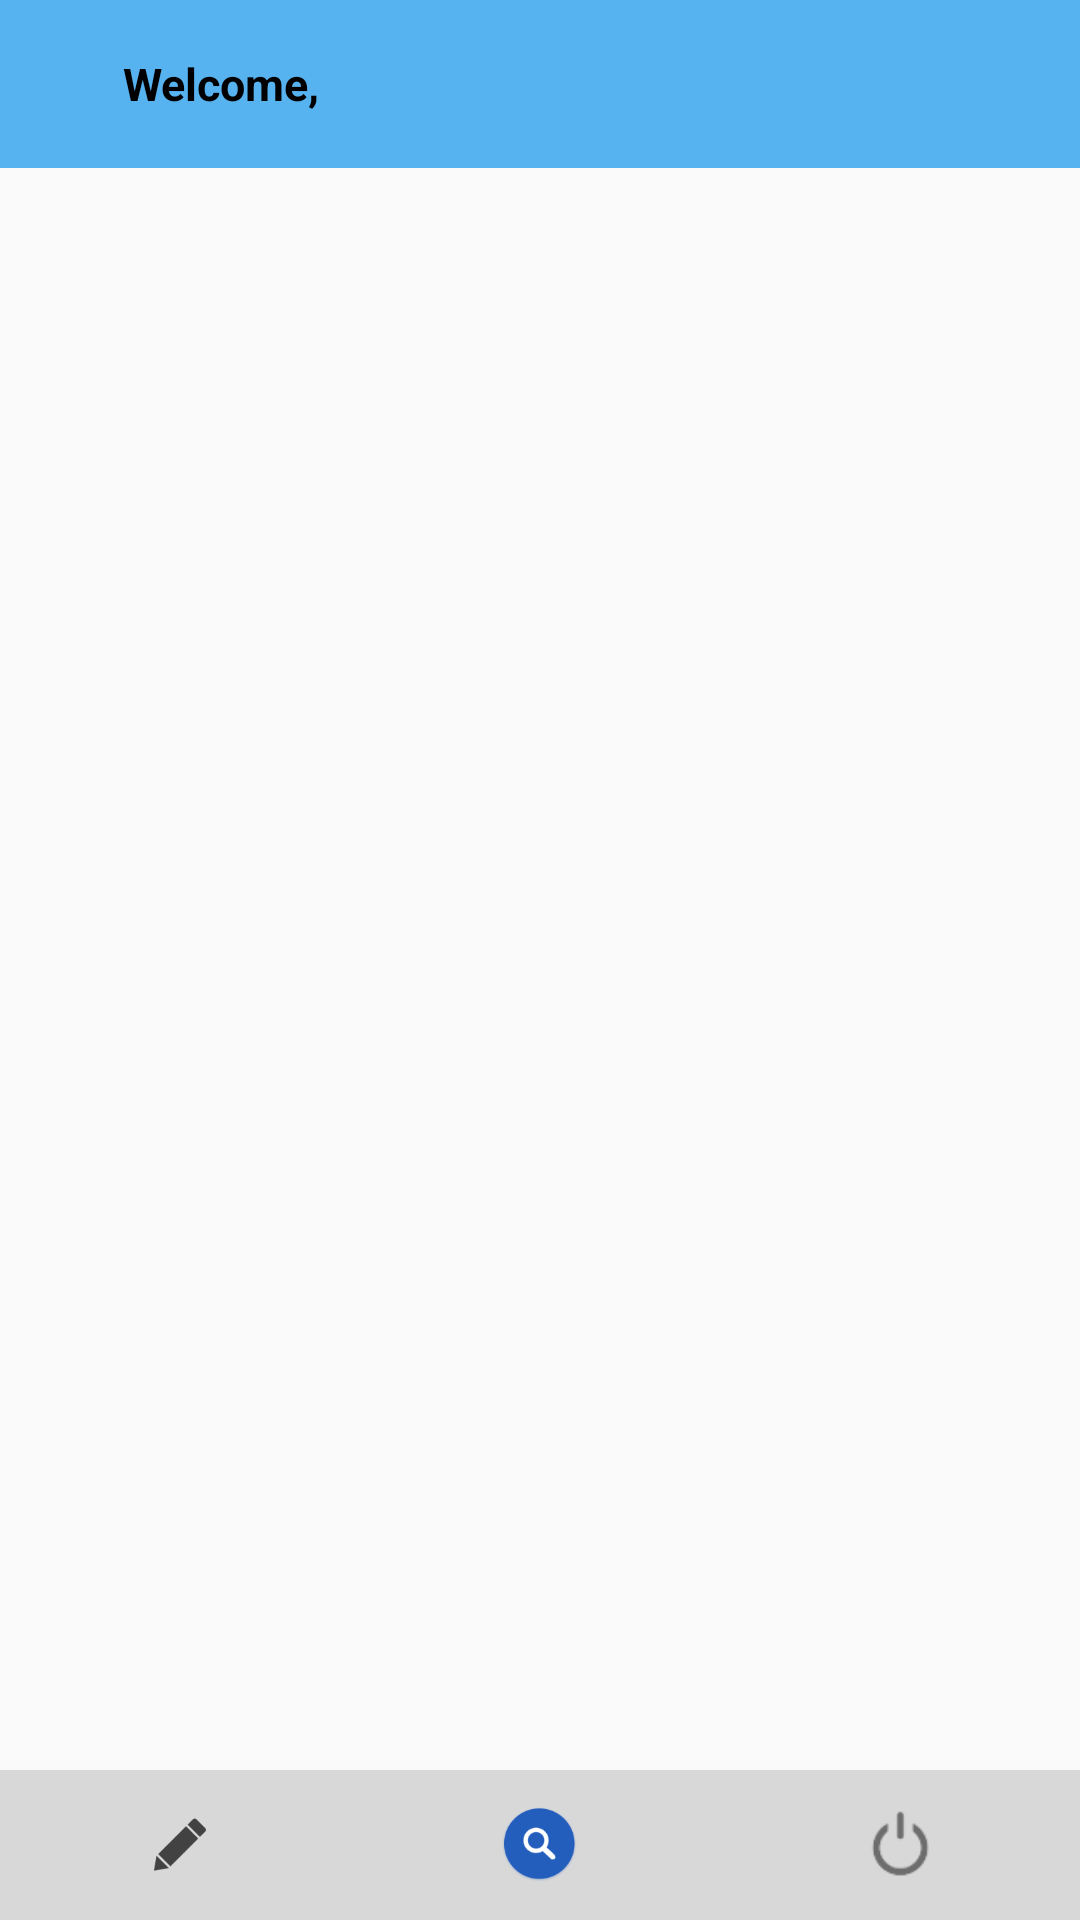

Icons on this 1080px x 1920px Android screen, each with the point to tap as point (x, y):
edit: point (180, 1844)
search: point (539, 1844)
